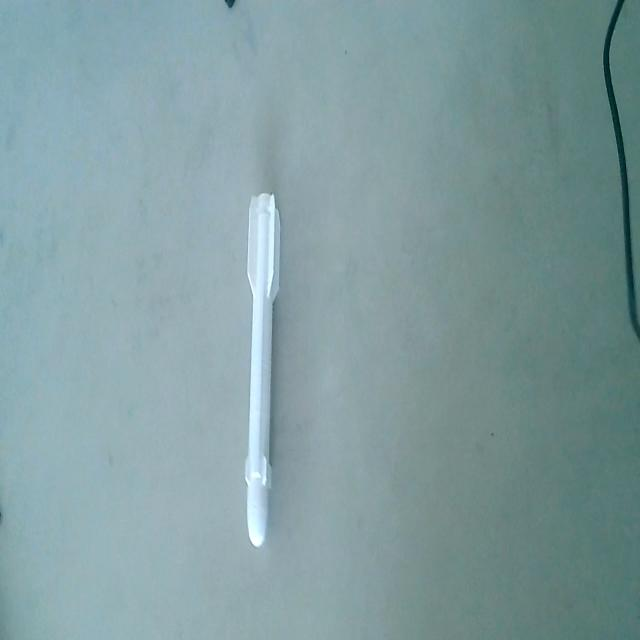Rocket: (245, 188, 283, 547)
